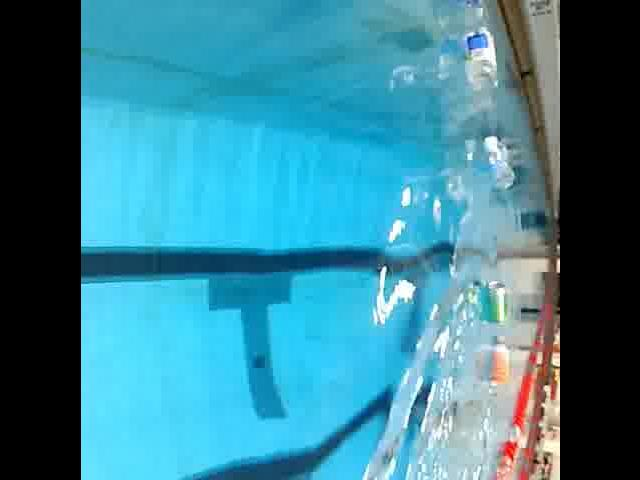Bottle: (457, 0, 499, 98), (480, 130, 518, 196), (483, 330, 511, 390)
Can: (477, 278, 509, 328)
